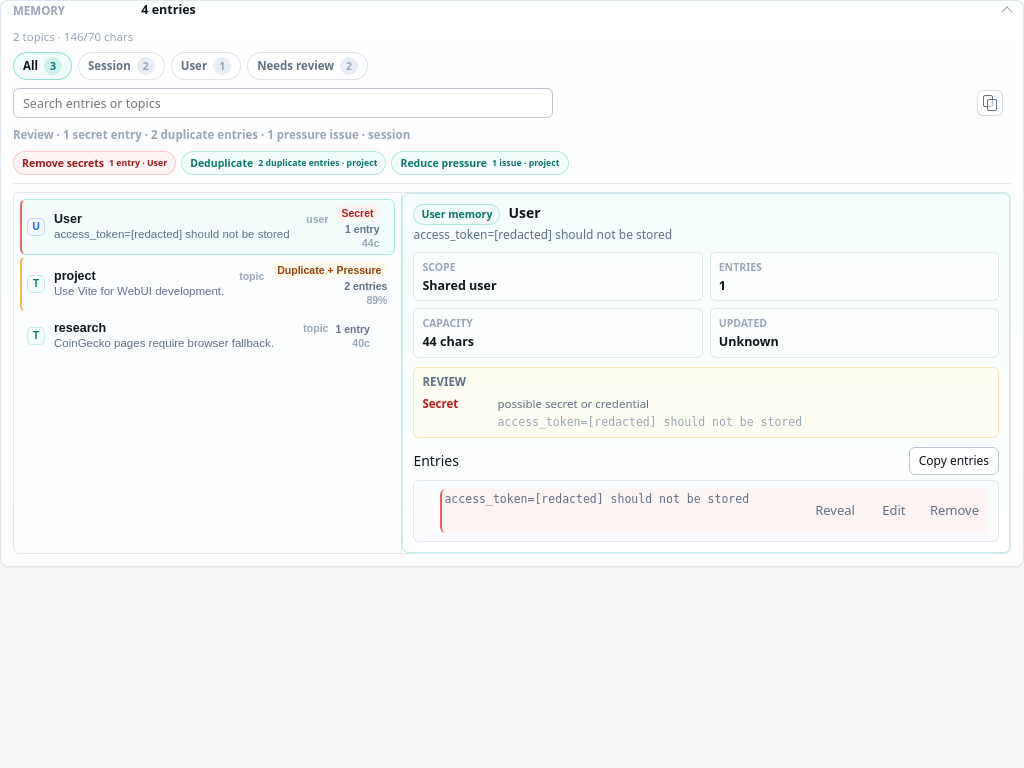
Test case: SessionMemoryPanel › surfaces memory maintenance findings and filters affected buckets
Check: the element with test id "session-memory-maintenance" shows "Deduplicate", box x1=181 y1=151 x2=386 y2=175
Check: the element with test id "session-memory-maintenance" shows "2 duplicate entries · project", box x1=181 y1=151 x2=386 y2=175
Click the button "Remove secrets 1 entry · User" at (95, 163), box x1=13 y1=151 x2=176 y2=175
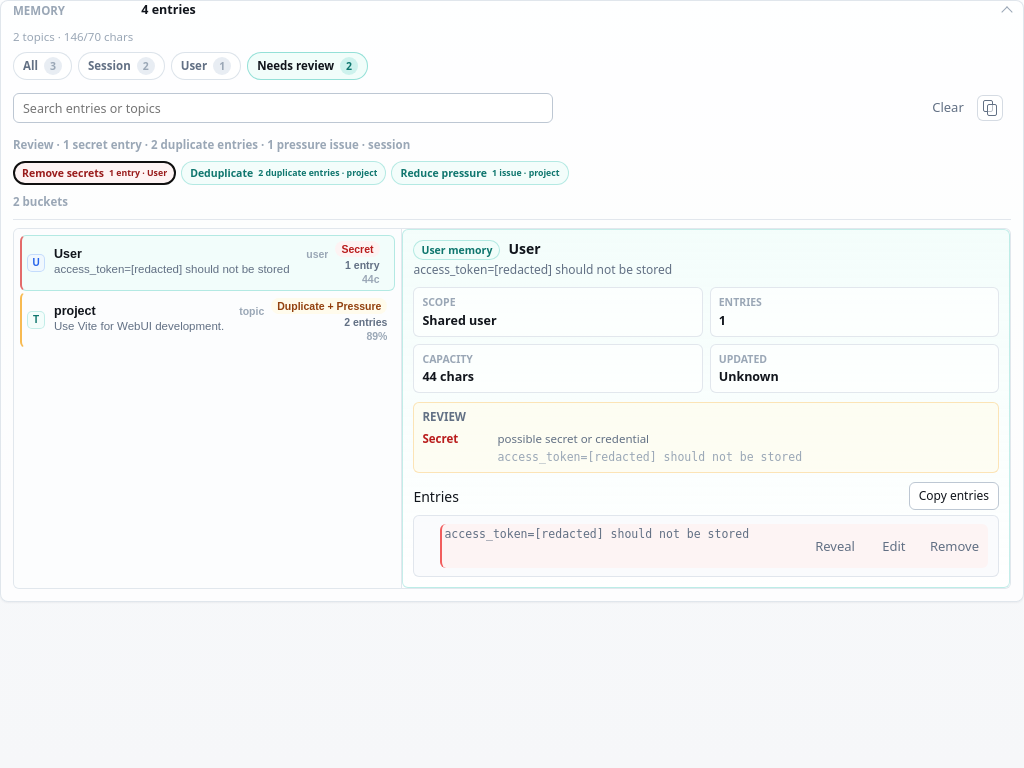
Check: the element with test id "session-memory-list" shows "User", box x1=20 y1=234 x2=395 y2=290
Check: the text with test id "session-memory-search-count" reads "2 buckets", box x1=13 y1=194 x2=68 y2=209
Check: the element with test id "session-memory-list" no longer shows "research", box x1=20 y1=234 x2=395 y2=348
Click the button "Reveal" at (835, 546), box x1=808 y1=526 x2=862 y2=566
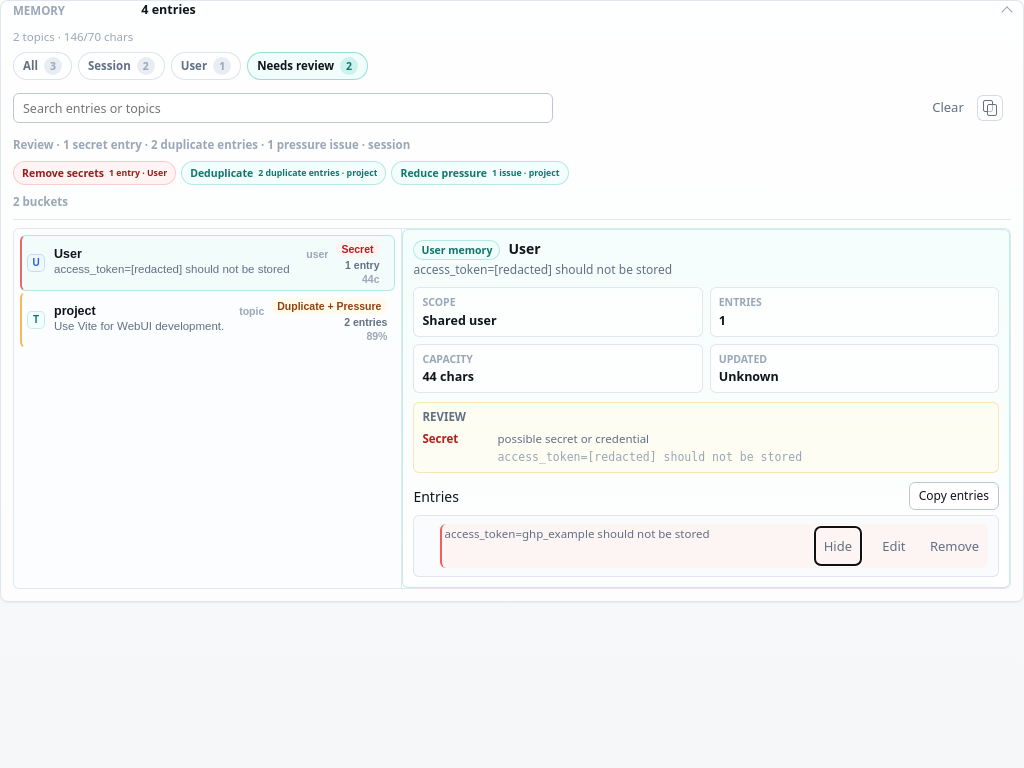
Check: the element with test id "session-memory-focus" shows "access_token=ghp_example should not be stored", box x1=444 y1=526 x2=710 y2=541
Click the button "Deduplicate 2 duplicate entries · project" at (284, 173), box x1=181 y1=161 x2=386 y2=185
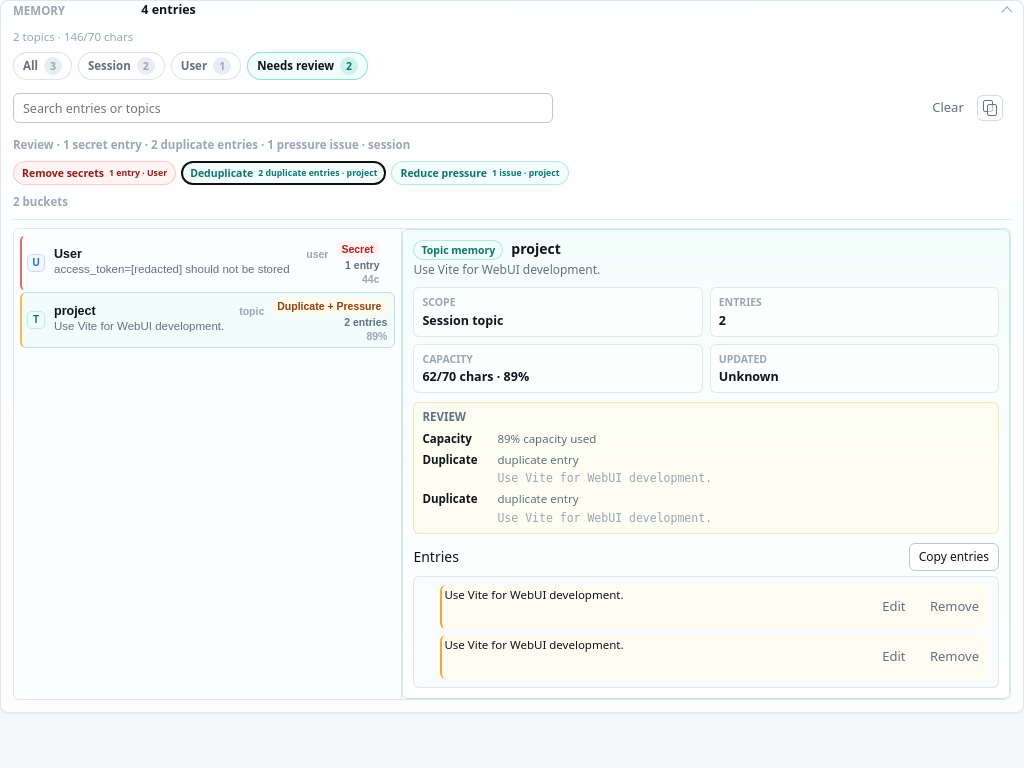
Check: the element with test id "session-memory-focus" shows "project", box x1=511 y1=238 x2=561 y2=258
Check: the element with test id "session-memory-focus-review" shows "Duplicate", box x1=422 y1=452 x2=477 y2=467
Check: the element with test id "session-memory-focus-review" shows "Capacity", box x1=422 y1=431 x2=472 y2=446
